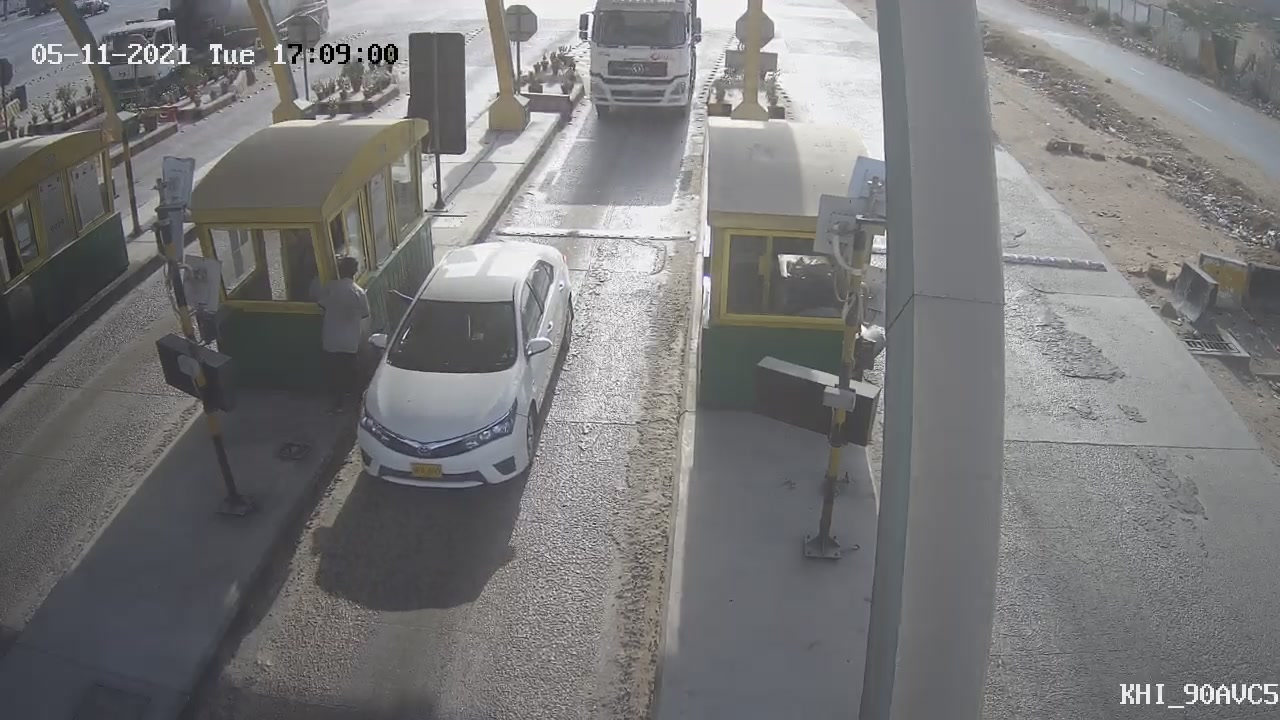F1: (329, 222, 596, 505)
